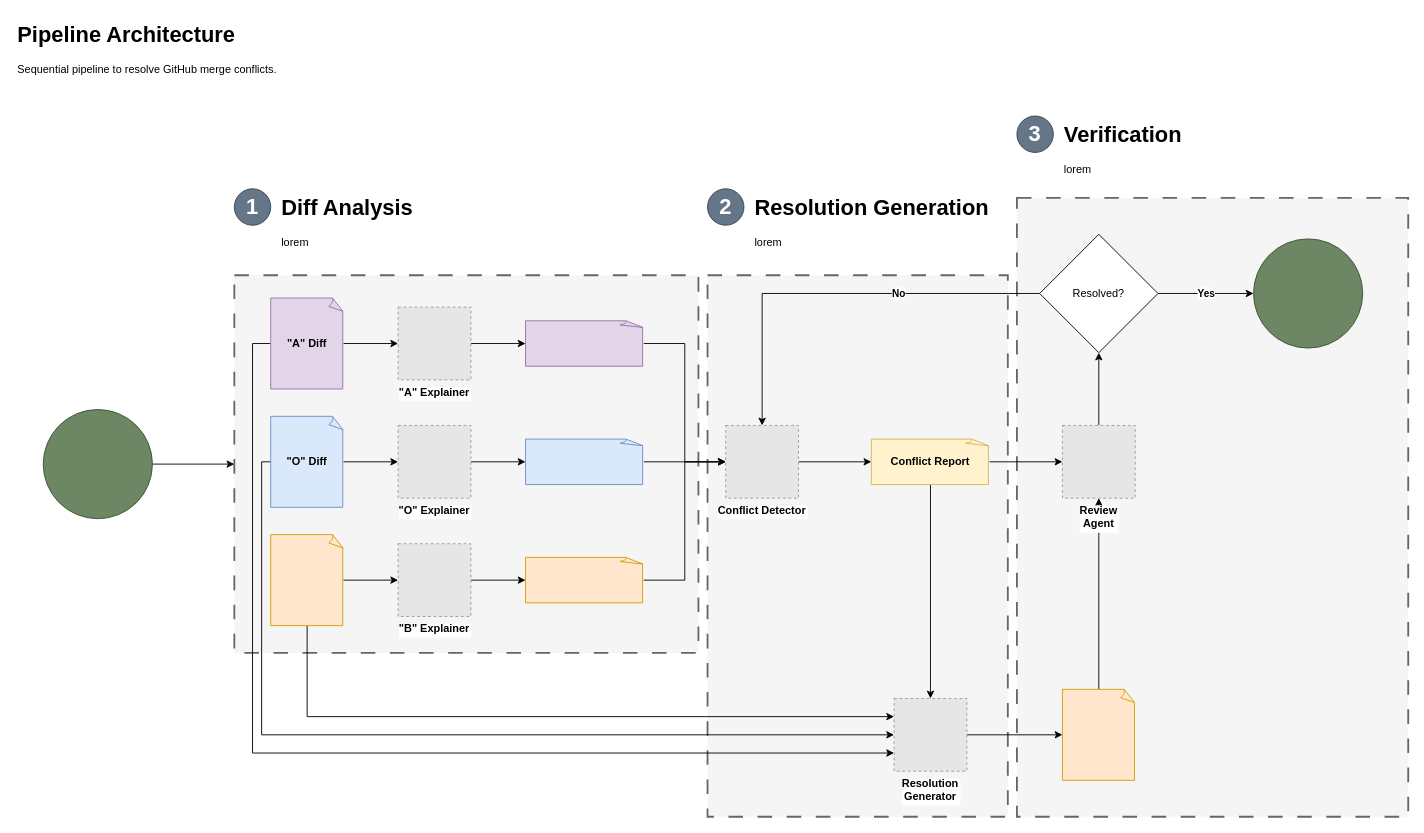
This 1424x833 diagram has some shape labels left out. Grey dashed boxes stand in for pictures. Here are the shapes that lost their labels. From the top down, the centre of each, then its label:
the point at 1308,293: End
the point at 584,343: "A" Explanation
the point at 97,464: Start
the point at 584,461: "O" Explanation
the point at 307,580: "B" Diff
the point at 584,579: "B" Explanation
the point at 1098,734: Resolved Diff
